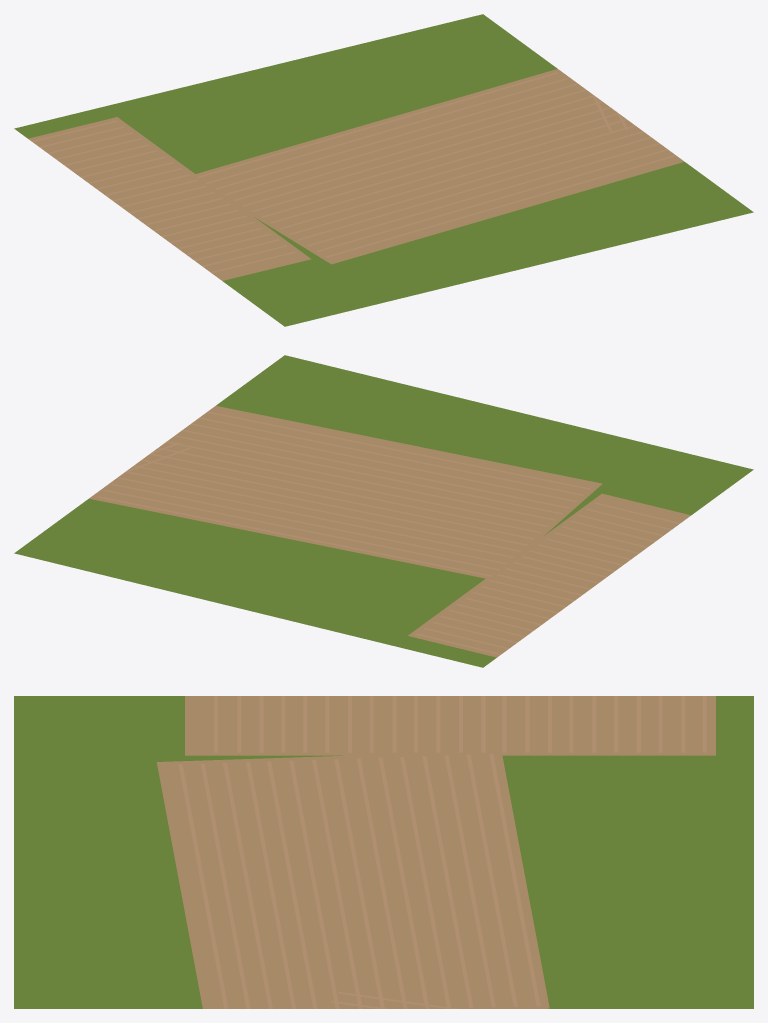
The model's file is crossing-10-7.glb.
3 renders of one model, top to bottom at view 1: azimuth 30°, elevation 25°; view 2: azimuth 150°, elevation 25°; view 3: azimuth 270°, elevation 25°, orthographic. The views are drawn at different scales.
Parts seen in each view (by area): view 1: crossing-10-7; view 2: crossing-10-7; view 3: crossing-10-7.
Boxes of the visible parts, x1,y1,x2,y2 form: crossing-10-7: (14,14,753,326); crossing-10-7: (14,355,753,667); crossing-10-7: (14,696,753,1008).
Bounding box in the file's own units: 100 × 0.0064 × 100.
